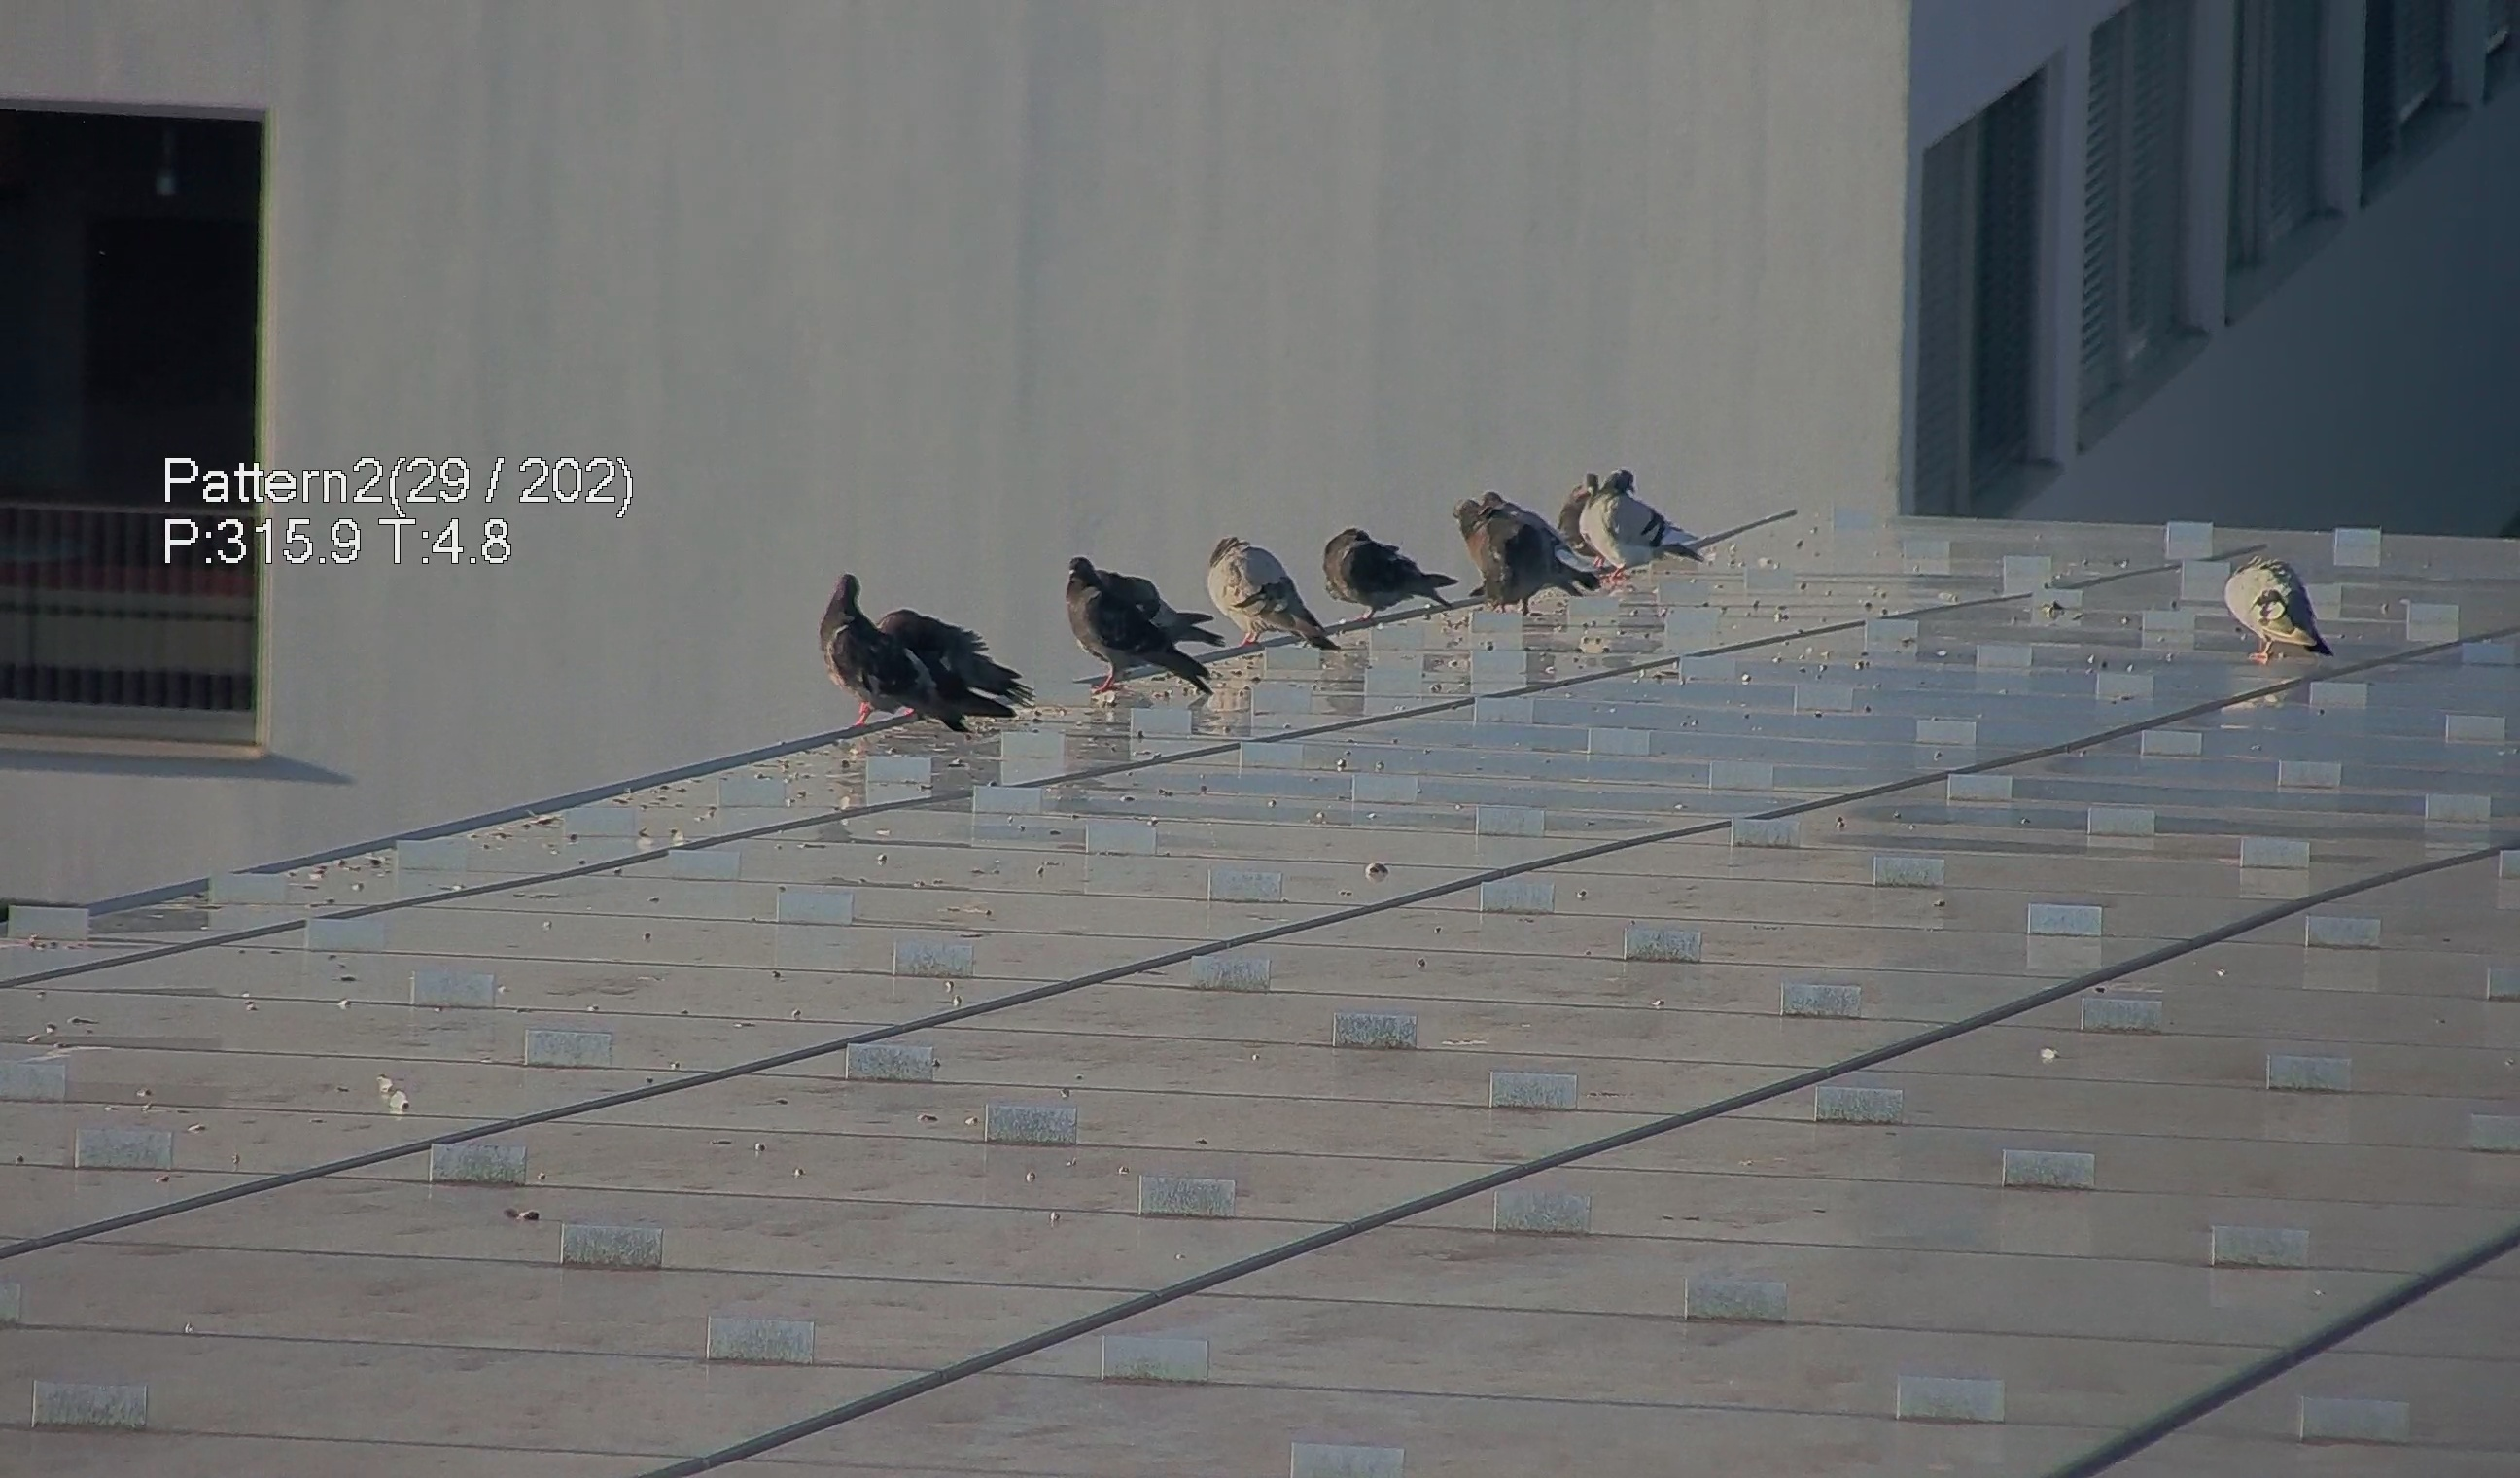Pigeon: (793, 565, 1020, 744), (1050, 542, 1227, 699), (1565, 456, 1762, 579), (1192, 521, 1351, 660), (1449, 472, 1614, 604), (2230, 545, 2351, 670), (1324, 519, 1461, 625)
